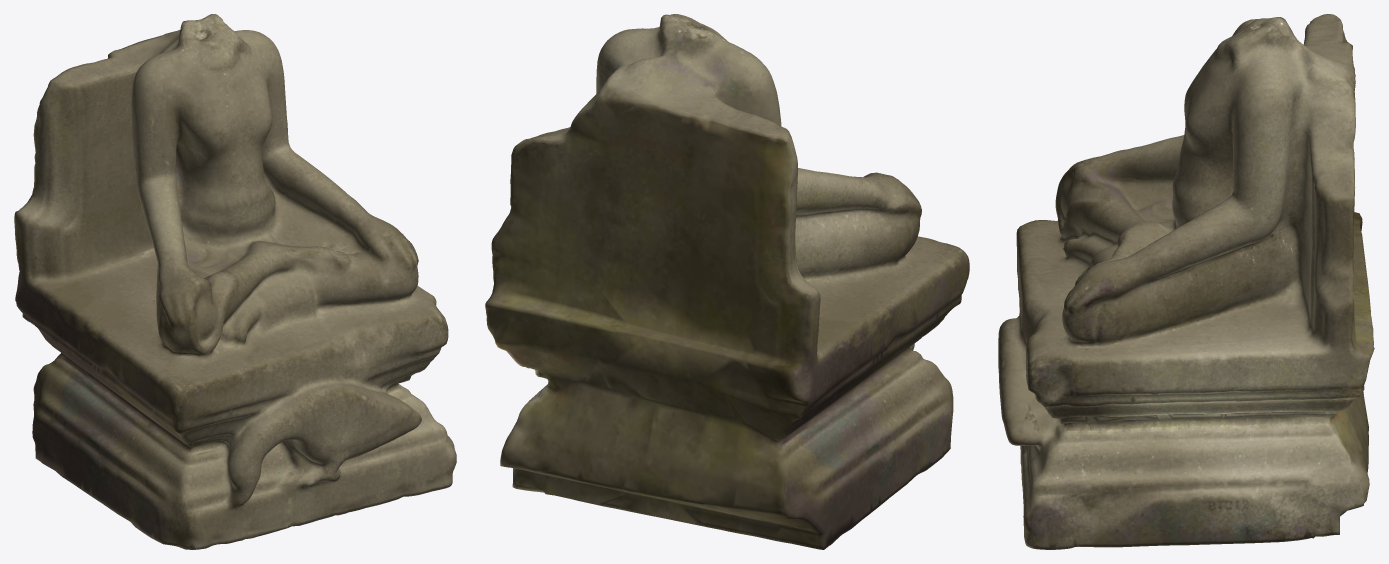
The model's file is 15_thanphuonghuong_varuna_final.glb.
3 renders of one model, left to right at view 1: azimuth 30°, elevation 25°; view 2: azimuth 150°, elevation 25°; view 3: azimuth 270°, elevation 25°, orthographic. The views are drawn at different scales.
Bounding box in the file's own units: 0.3681 × 0.498 × 0.3737.
Materials: 1 (1 with a texture image).
